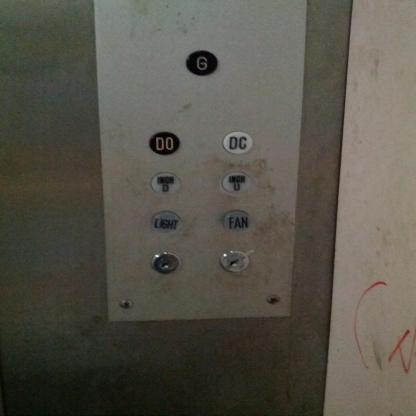DC: (222, 130, 253, 154)
DO: (148, 131, 180, 156)
G: (186, 50, 218, 76)
keyhole: (219, 249, 250, 273), (151, 251, 181, 275)
text: (150, 172, 181, 195), (221, 171, 252, 193)
text_FAN: (221, 209, 251, 232)
text_light: (152, 210, 182, 235)
